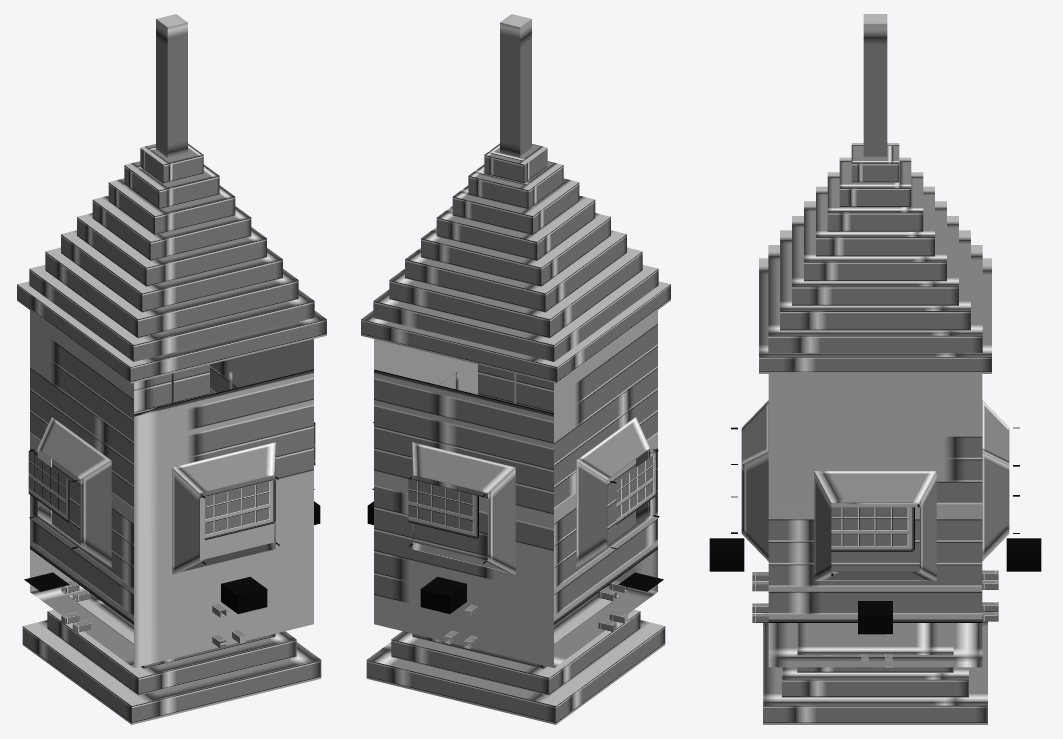
File: satellite_rocket.obj
3 renders of one model, left to right at view 1: azimuth 30°, elevation 25°; view 2: azimuth 150°, elevation 25°; view 3: azimuth 270°, elevation 25°, orthographic. The views are drawn at different scales.
Visible parts, largest first — view 1: Rocket; view 2: Rocket; view 3: Rocket.
Part boxes in pixels (<box>): Rocket: <box>17,14,326,724</box>; Rocket: <box>361,14,670,724</box>; Rocket: <box>709,14,1041,724</box>.
Size of the model in its own units: 3.24 by 6.8 by 3.24.
